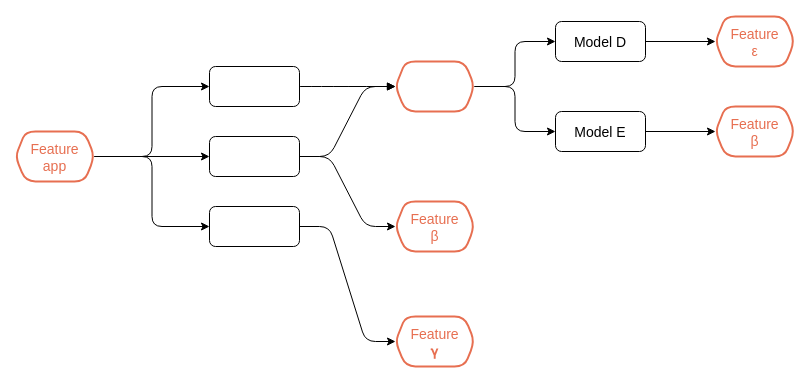
Image size: 809x383. Some labels were removed from this diagram. Here are the shapes that lost their labels. From the top down, the box of each, then its label:
(208, 66, 300, 106): Model A
(394, 60, 475, 112): Feature ⍺
(208, 136, 300, 176): Model B
(208, 206, 300, 246): Model C
